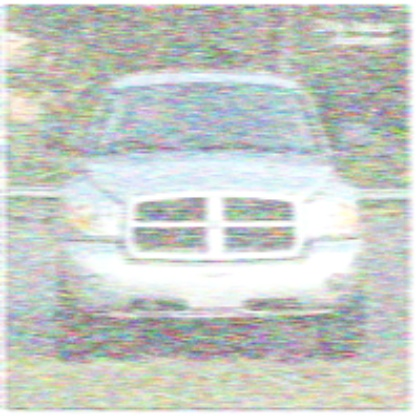Vehicle: (42, 70, 374, 356)
